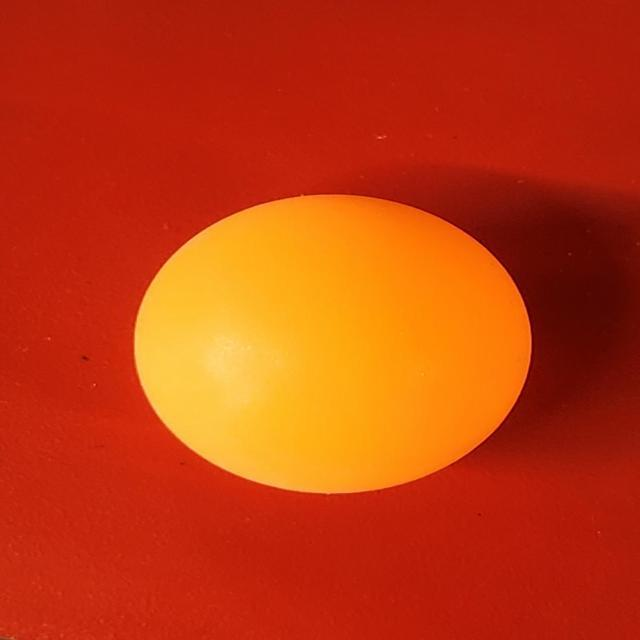oball: (131, 189, 538, 501)
